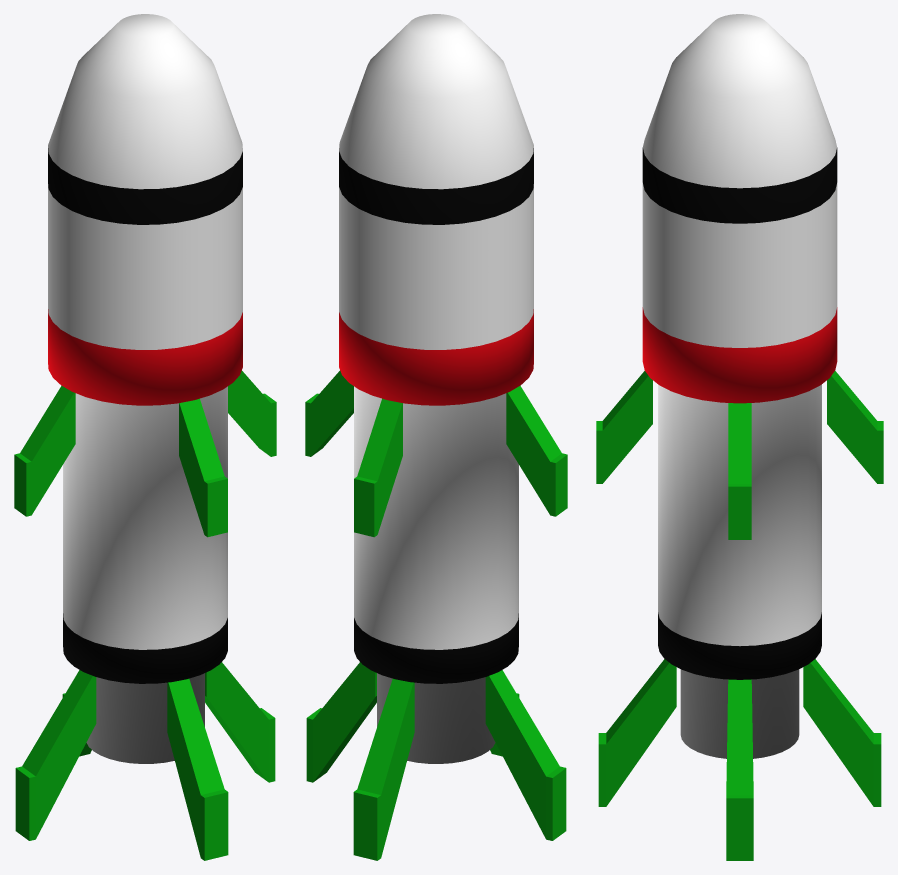
File: missile4.fbx
3 renders of one model, left to right at view 1: azimuth 30°, elevation 25°; view 2: azimuth 150°, elevation 25°; view 3: azimuth 270°, elevation 25°, orthographic.
Visible parts, largest first — view 1: missile_mesh; view 2: missile_mesh; view 3: missile_mesh.
Part boxes in pixels (left/top/right/bottom): missile_mesh: left=14, top=14, right=276, bottom=860; missile_mesh: left=305, top=14, right=567, bottom=860; missile_mesh: left=596, top=14, right=883, bottom=860.
Size of the model in its own units: 79.07 by 235 by 79.07.
1 material, 1 textured.
